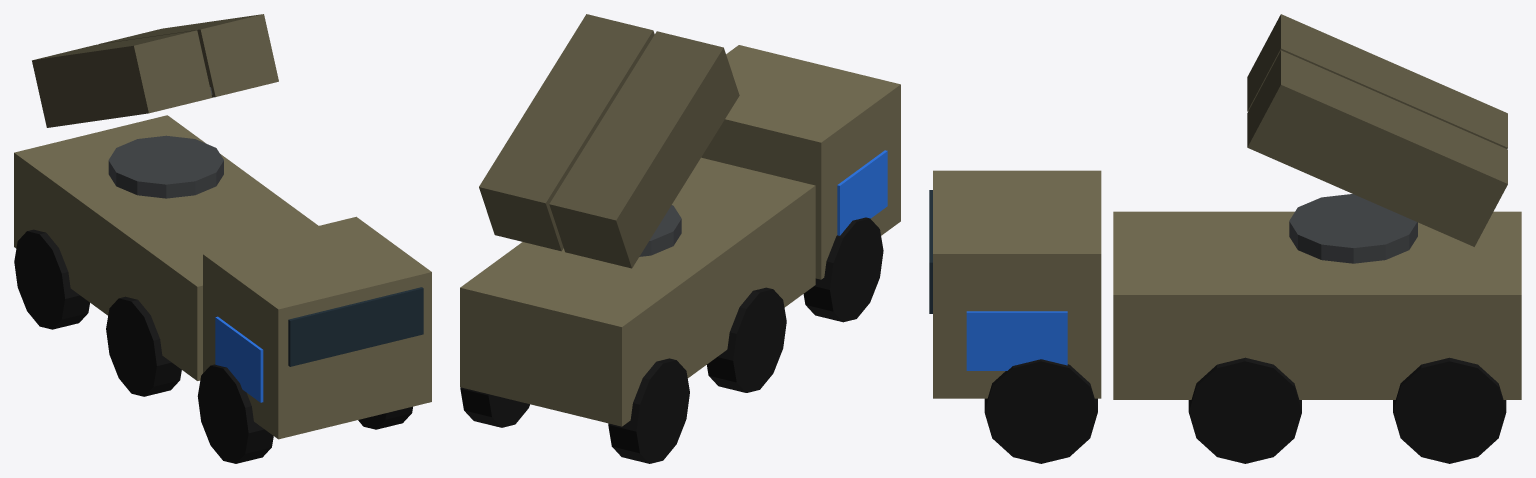
File: us_rocket_artillery.glb
3 renders of one model, left to right at view 1: azimuth 30°, elevation 25°; view 2: azimuth 150°, elevation 25°; view 3: azimuth 270°, elevation 25°, orthographic. The views are drawn at different scales.
Parts seen in each view (by area): view 1: body, cab, pod_0, windshield, turret, pod_1, wheel_l2, wheel_l1, wheel_l0, team_door_l, wheel_r0; view 2: body, pod_0, cab, pod_1, wheel_l2, wheel_l1, wheel_l0, team_door_l, wheel_r2, turret; view 3: body, cab, pod_1, pod_0, wheel_r2, wheel_r1, wheel_r0, turret, team_door_r.
Part boxes in pixels (x1=…): body: x1=14, y1=115, x2=318, y2=380; cab: x1=203, y1=216, x2=431, y2=439; pod_0: x1=32, y1=30, x2=212, y2=127; windshield: x1=288, y1=287, x2=423, y2=366; turret: x1=108, y1=135, x2=223, y2=198; pod_1: x1=99, y1=14, x2=278, y2=97; wheel_l2: x1=14, y1=229, x2=89, y2=329; wheel_l1: x1=106, y1=296, x2=181, y2=396; wheel_l0: x1=197, y1=364, x2=273, y2=463; team_door_l: x1=215, y1=316, x2=263, y2=402; wheel_r0: x1=358, y1=406, x2=412, y2=429; body: x1=460, y1=157, x2=815, y2=426; pod_0: x1=549, y1=31, x2=739, y2=268; cab: x1=701, y1=45, x2=900, y2=279; pod_1: x1=479, y1=14, x2=654, y2=251; wheel_l2: x1=608, y1=358, x2=689, y2=463; wheel_l1: x1=707, y1=287, x2=786, y2=392; wheel_l0: x1=803, y1=217, x2=883, y2=322; team_door_l: x1=837, y1=150, x2=887, y2=235; wheel_r2: x1=460, y1=387, x2=529, y2=427; turret: x1=639, y1=205, x2=681, y2=256; body: x1=1113, y1=211, x2=1521, y2=399; cab: x1=933, y1=170, x2=1101, y2=398; pod_1: x1=1247, y1=50, x2=1507, y2=246; pod_0: x1=1247, y1=14, x2=1507, y2=148; wheel_r2: x1=1393, y1=357, x2=1506, y2=463; wheel_r1: x1=1188, y1=357, x2=1301, y2=463; wheel_r0: x1=984, y1=359, x2=1097, y2=463; turret: x1=1289, y1=194, x2=1417, y2=263; team_door_r: x1=966, y1=311, x2=1067, y2=370.
Bounding box in the file's own units: 2.5 × 4.75 × 6.91.
